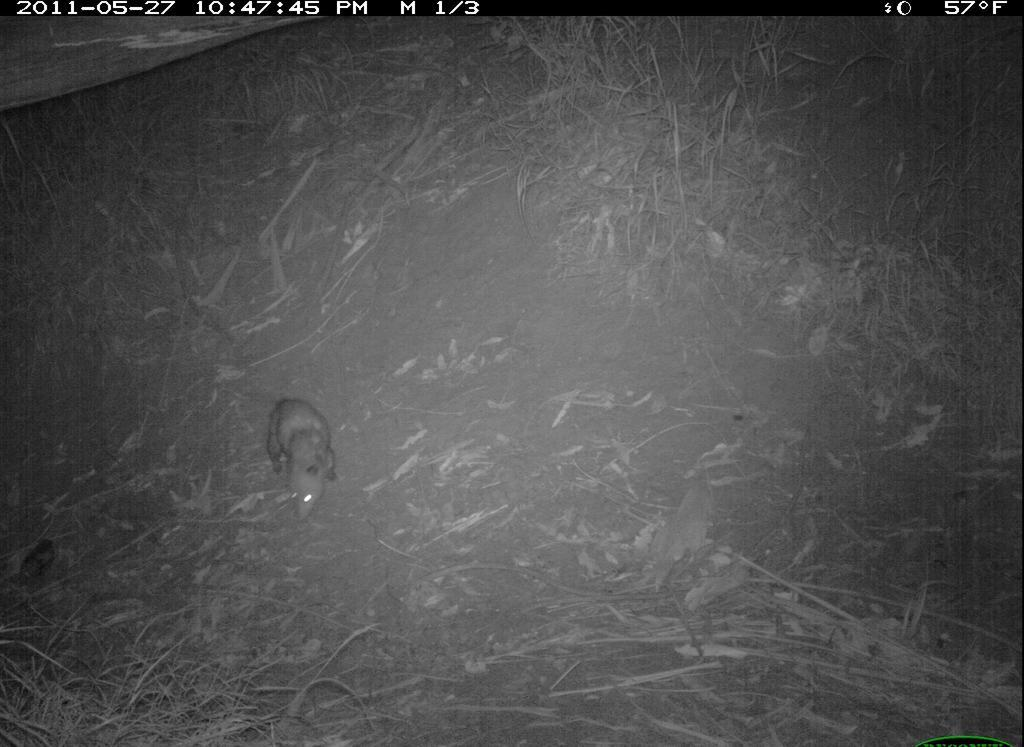opossum: (232, 372, 361, 533)
